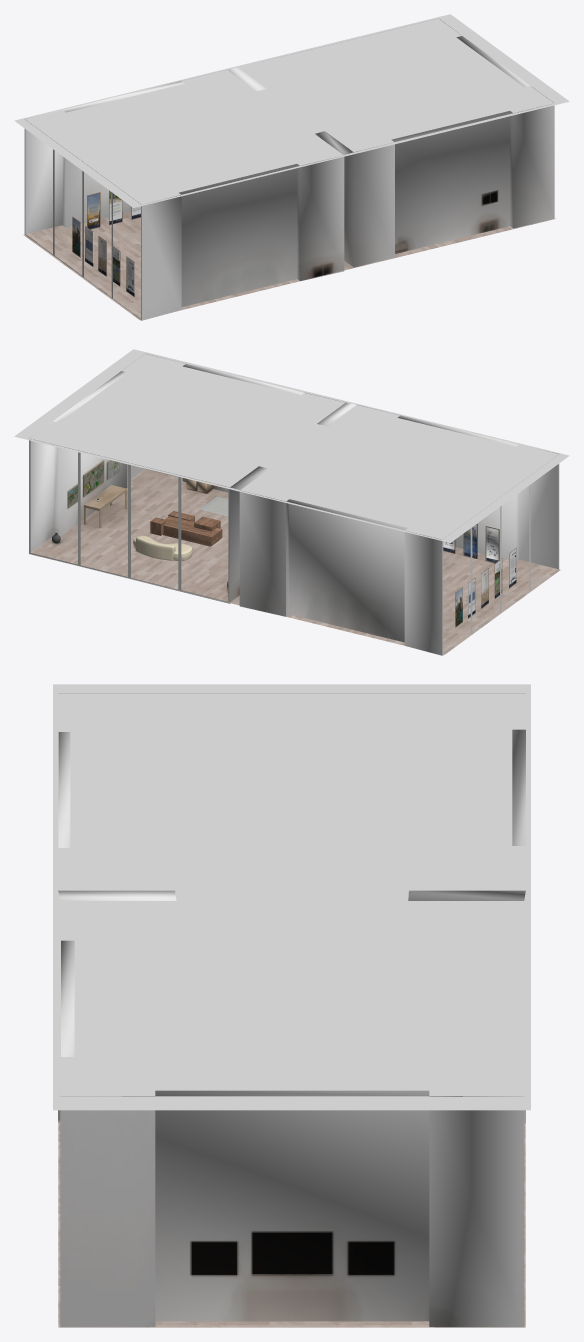
The model's file is showroom_o.glb.
The picture shows the model from 3 angles, top to bottom: view 1: azimuth 30°, elevation 25°; view 2: azimuth 150°, elevation 25°; view 3: azimuth 270°, elevation 25°; orthographic projection. The views are drawn at different scales.
Visible parts, largest first — view 1: floor, ceiling.002, 5_8_2.001, 9_12_2.001; view 2: floor, ceiling.002, Object_4, bar_2_3, 5_8_2.001, Sofa MRS collection by Roman Plyus_MRS Sofa_0, screens_2, new_ones, 1_4_2.001; view 3: ceiling.002, floor.
Part boxes in pixels (x1=…): floor: x1=23, y1=18, x2=555, y2=320; ceiling.002: x1=14, y1=14, x2=569, y2=207; 5_8_2.001: x1=85, y1=226, x2=134, y2=296; 9_12_2.001: x1=87, y1=190, x2=140, y2=229; floor: x1=28, y1=353, x2=560, y2=655; ceiling.002: x1=14, y1=349, x2=569, y2=542; Object_4: x1=150, y1=511, x2=222, y2=546; bar_2_3: x1=52, y1=478, x2=228, y2=592; 5_8_2.001: x1=468, y1=548, x2=516, y2=618; Sofa MRS collection by Roman Plyus_MRS Sofa_0: x1=133, y1=535, x2=192, y2=560; screens_2: x1=67, y1=460, x2=119, y2=508; new_ones: x1=455, y1=526, x2=499, y2=627; 1_4_2.001: x1=443, y1=524, x2=477, y2=558; ceiling.002: x1=53, y1=684, x2=530, y2=1110; floor: x1=58, y1=693, x2=525, y2=1327.
Bounding box in the file's own units: 220 × 56.23 × 105.
16 materials, 13 textured.
